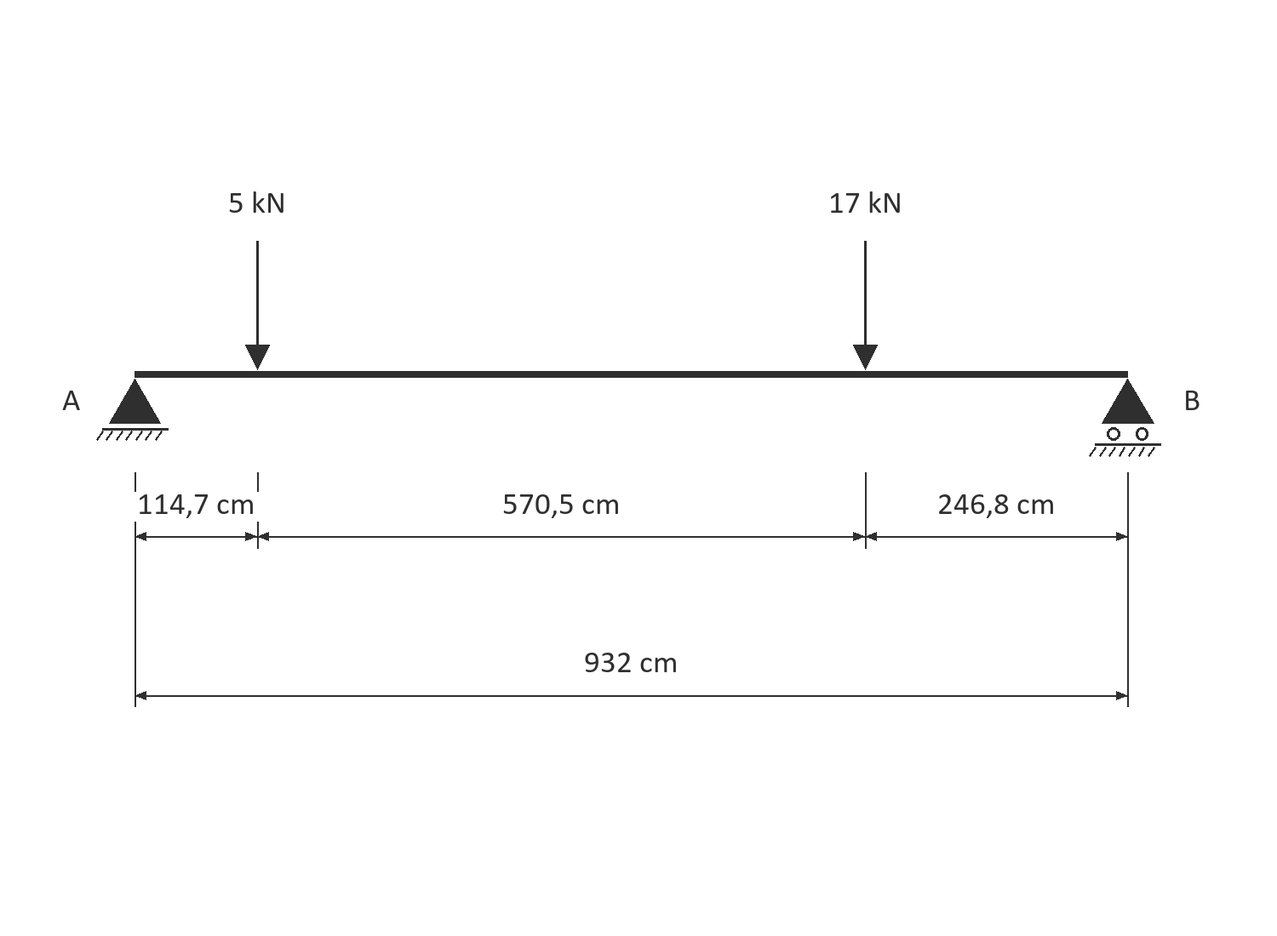pin_support: (96, 379, 169, 441)
point_load: (245, 241, 270, 370), (853, 241, 878, 370)
roller_support: (1089, 379, 1161, 457)
